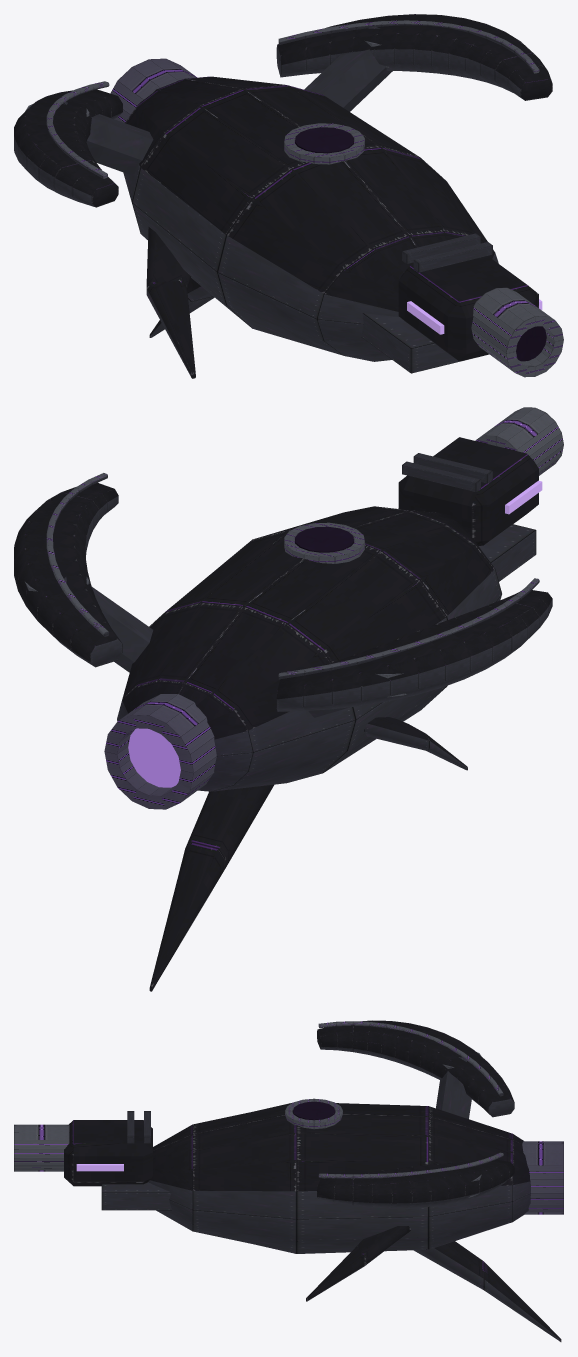
Rendered from pioneer-eris-l03-laser.glb.
The picture shows the model from 3 angles, top to bottom: view 1: azimuth 30°, elevation 25°; view 2: azimuth 150°, elevation 25°; view 3: azimuth 270°, elevation 25°; orthographic projection. The views are drawn at different scales.
Visible parts, largest first — view 1: Drone; view 2: Drone; view 3: Drone.
Boxes of the visible parts, bbox=[...] form: Drone: bbox=[14, 14, 563, 378]; Drone: bbox=[14, 407, 563, 991]; Drone: bbox=[14, 1020, 563, 1341].
Size of the model in its own units: 1.04 by 0.6961 by 1.42.
3 materials, 3 textured.
